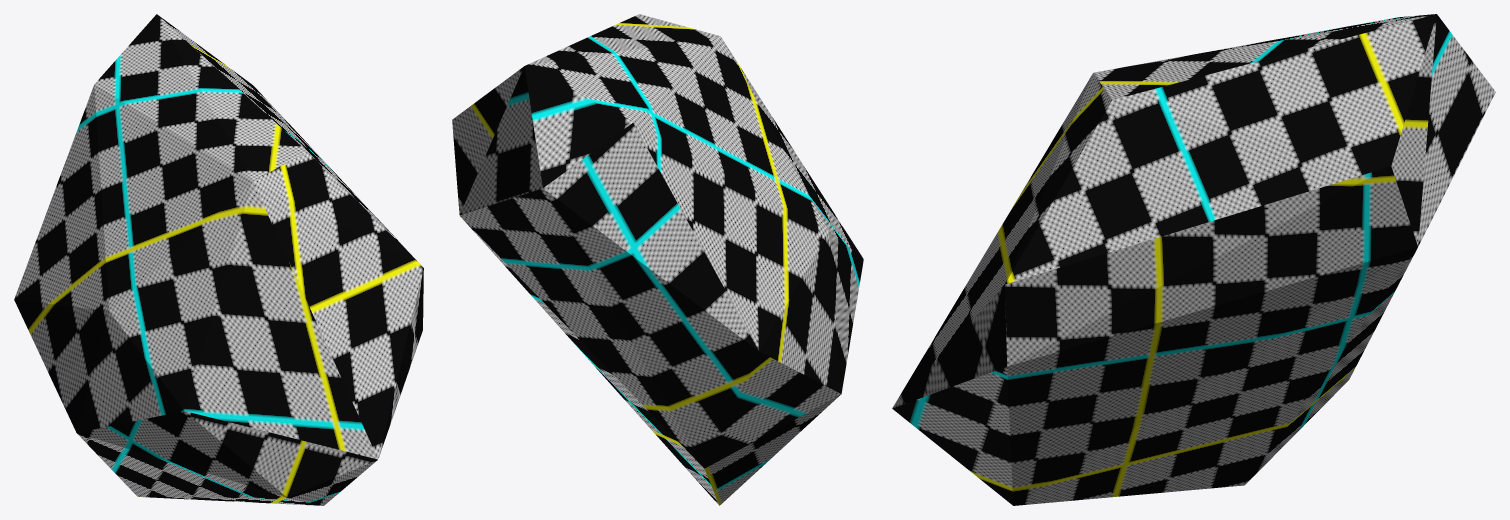
The picture shows the model from 3 angles, left to right: view 1: azimuth 30°, elevation 25°; view 2: azimuth 150°, elevation 25°; view 3: azimuth 270°, elevation 25°; orthographic projection. The views are drawn at different scales.
Visible parts, largest first — view 1: block2; view 2: block2; view 3: block2.
Part boxes in pixels (x1,y1,x2,y2): block2: [14, 14, 423, 505]; block2: [452, 14, 863, 505]; block2: [892, 14, 1495, 505].
Size of the model in its own units: 5.05 by 7.08 by 7.31.
